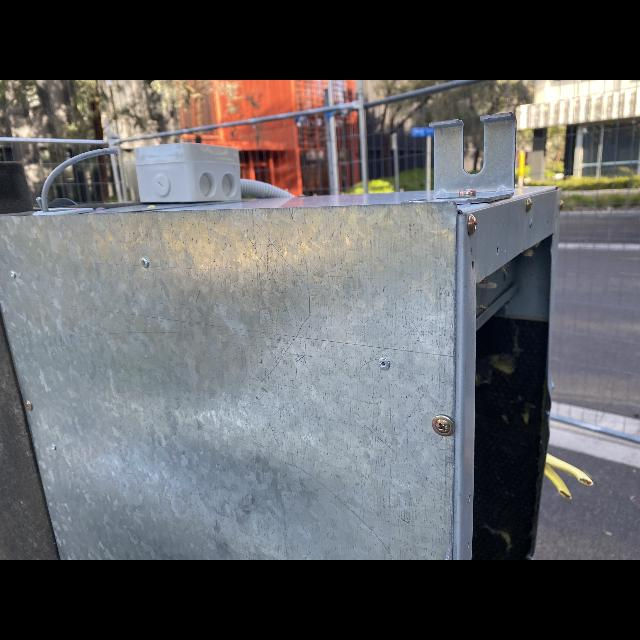Ferrous Metal: (0, 314, 59, 560)
Galvanized Steel: (0, 202, 456, 560), (430, 114, 516, 202)
